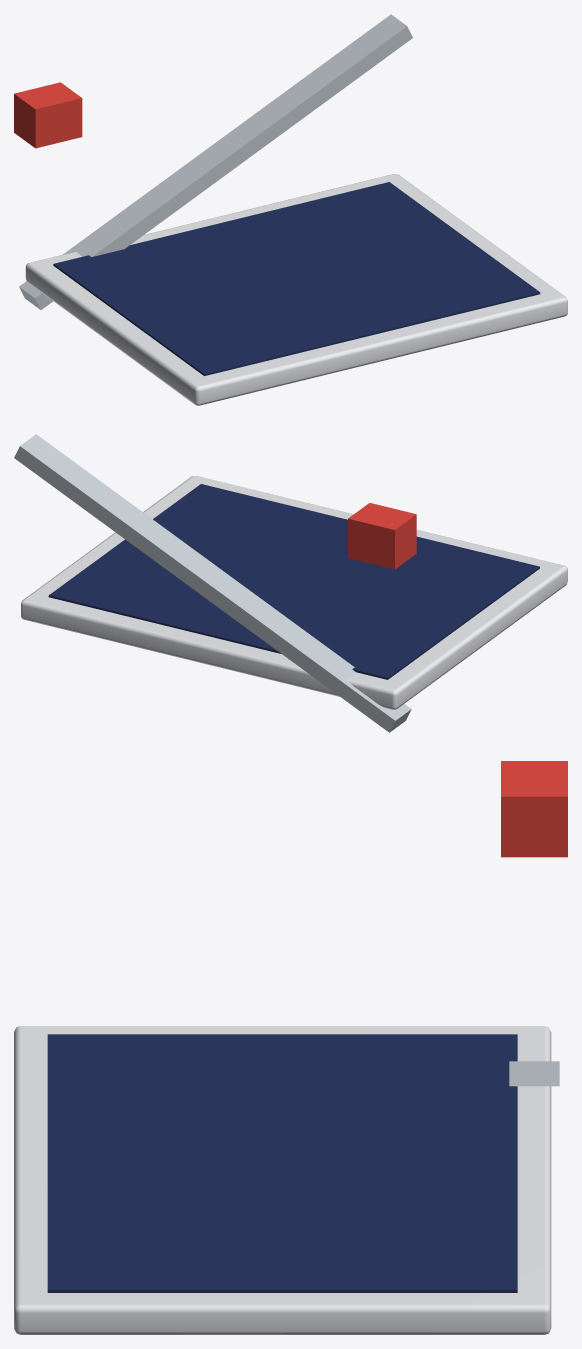
Rendered from PaperCutter.fbx.
3 views of the same model, one above another, from view 1: azimuth 30°, elevation 25°; view 2: azimuth 150°, elevation 25°; view 3: azimuth 270°, elevation 25° (orthographic). The views are drawn at different scales.
Visible parts, largest first — view 1: PaperCutterBody; view 2: PaperCutterBody; view 3: PaperCutterBody.
Part boxes in pixels (x1,y1,x2,y2): PaperCutterBody: (14, 14, 567, 405); PaperCutterBody: (14, 434, 567, 732); PaperCutterBody: (14, 761, 567, 1334).
Bounding box in the file's own units: 0.4076 × 0.2098 × 0.33.
